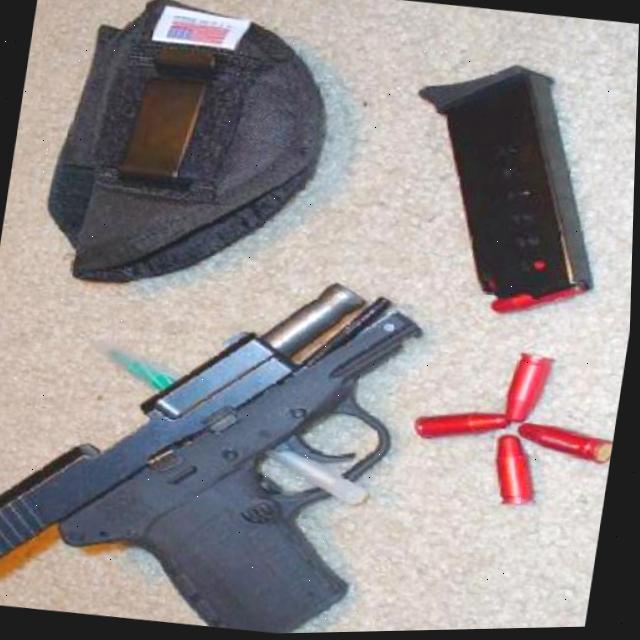gun: (0, 239, 434, 640)
